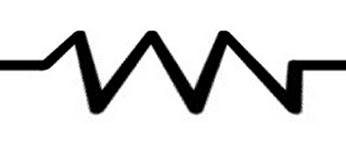resistor: (23, 19, 321, 127)
